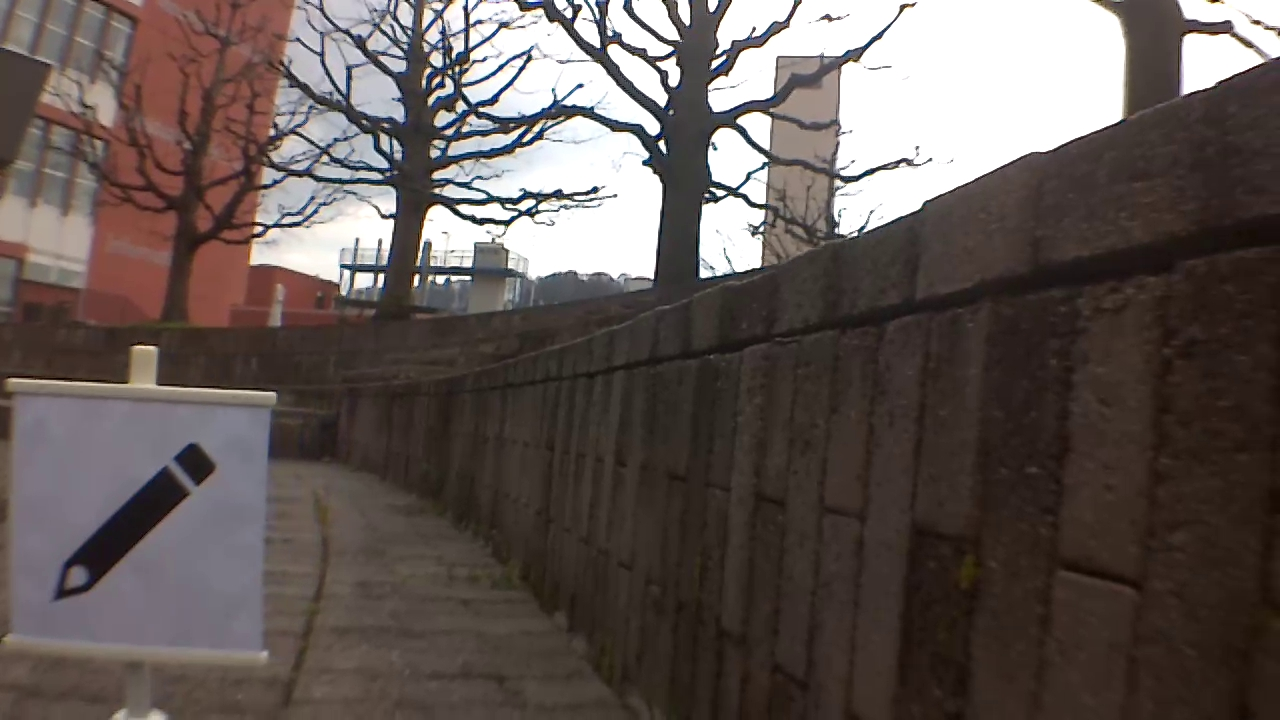pencil: (53, 441, 225, 602)
